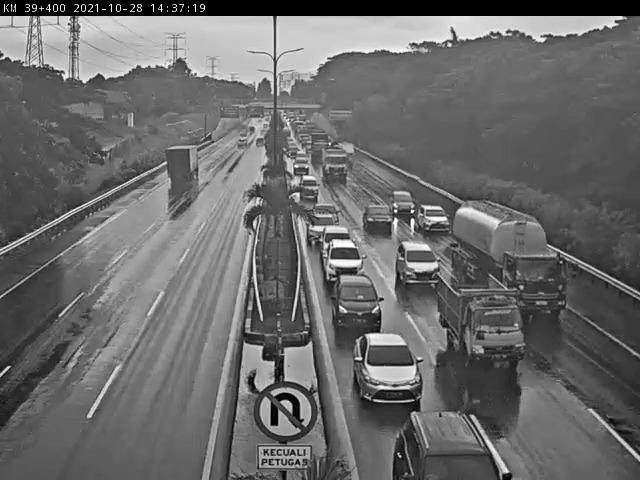big truck: (453, 202, 571, 323), (165, 145, 201, 181), (323, 149, 347, 179)
car: (394, 411, 501, 480), (349, 330, 426, 406), (331, 273, 383, 330), (393, 239, 443, 288), (322, 240, 368, 282), (318, 224, 350, 260), (416, 203, 451, 235), (360, 203, 395, 230), (307, 213, 336, 245), (389, 188, 418, 215), (311, 204, 342, 225), (300, 175, 320, 202), (292, 154, 313, 175)
small truck: (435, 269, 528, 374)
